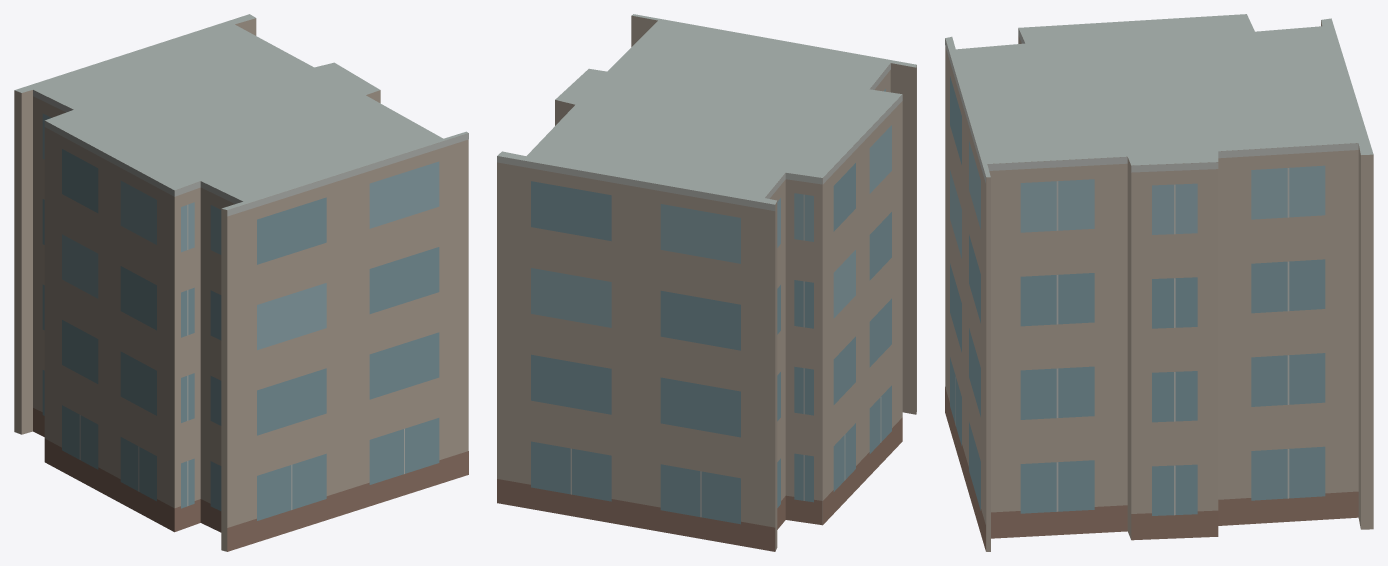
The model's file is survey-upis-32914416.glb.
The picture shows the model from 3 angles, left to right: view 1: azimuth 30°, elevation 25°; view 2: azimuth 150°, elevation 25°; view 3: azimuth 270°, elevation 25°; orthographic projection. The views are drawn at different scales.
Visible parts, largest first — view 1: survey-upis-32914416.tmp; view 2: survey-upis-32914416.tmp; view 3: survey-upis-32914416.tmp.
Boxes of the visible parts, bbox=[...] form: survey-upis-32914416.tmp: bbox=[14, 14, 468, 551]; survey-upis-32914416.tmp: bbox=[497, 14, 916, 551]; survey-upis-32914416.tmp: bbox=[945, 14, 1373, 551].
Bounding box in the file's own units: 12.17 × 13.02 × 13.5.
